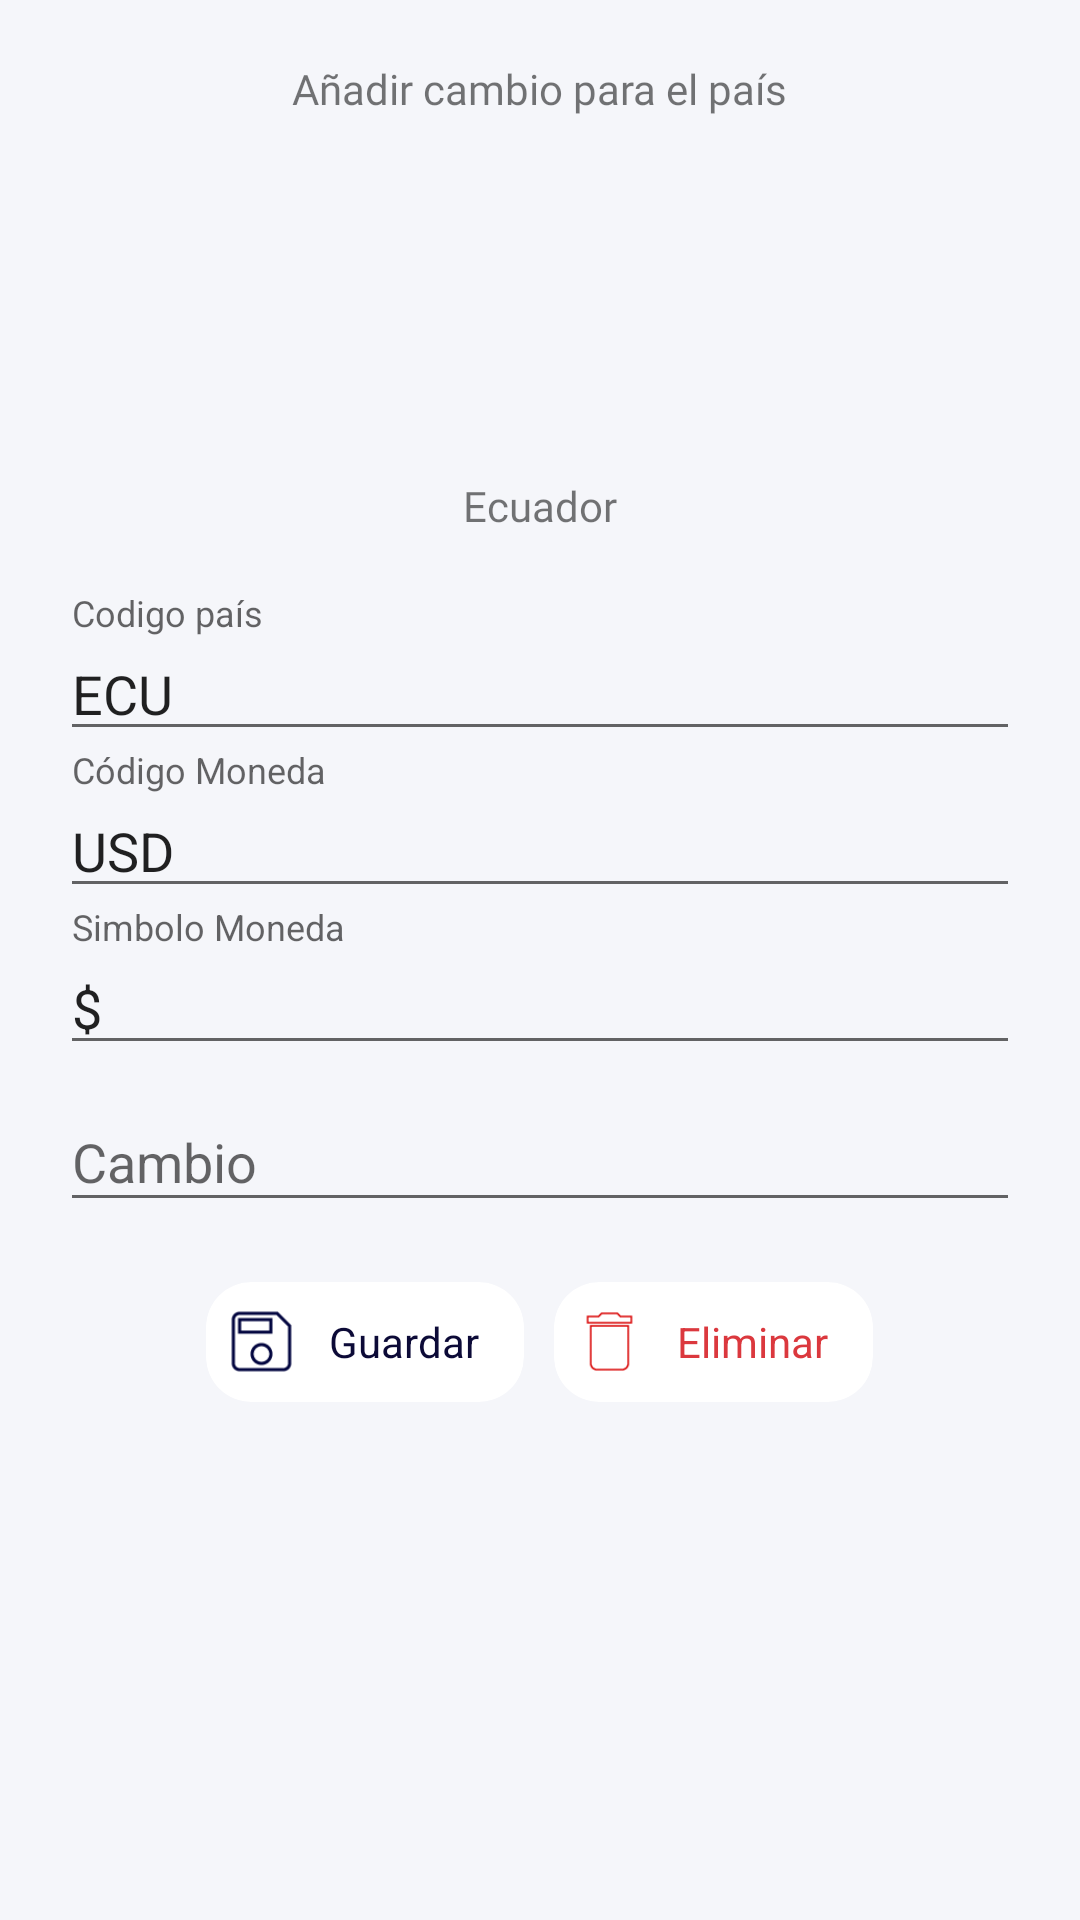

Named icons in this screenshot (1080 x 1920) and their bounding boxes, {"left": x1, "top": y1, "right": x2, "bottom": y2}:
delete: {"left": 586, "top": 1312, "right": 633, "bottom": 1371}
save: {"left": 231, "top": 1311, "right": 292, "bottom": 1372}
